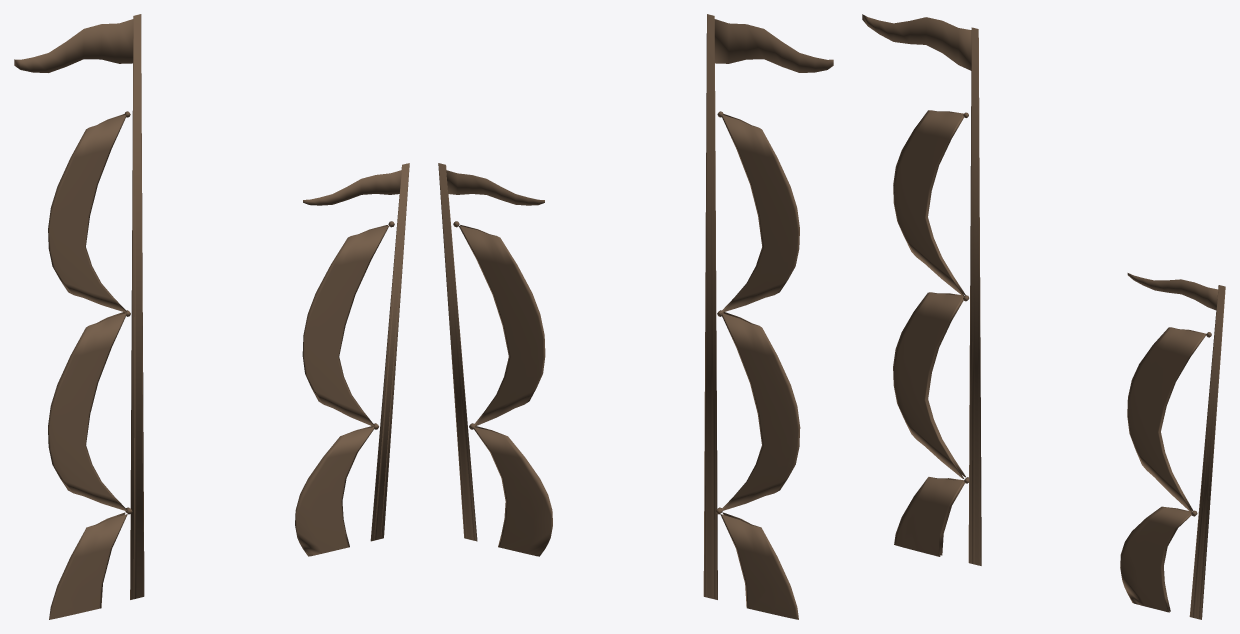
Rendered from ship-masts.glb.
The picture shows the model from 3 angles, left to right: view 1: azimuth 30°, elevation 25°; view 2: azimuth 150°, elevation 25°; view 3: azimuth 330°, elevation 25°; orthographic projection. The views are drawn at different scales.
Parts seen in each view (by area): view 1: ship-masts; view 2: ship-masts; view 3: ship-masts.
Boxes of the visible parts, left/top/right/bottom form: ship-masts: left=14, top=14, right=409, bottom=619; ship-masts: left=438, top=14, right=833, bottom=619; ship-masts: left=862, top=14, right=1225, bottom=619.
Size of the model in its own units: 5.67 by 8 by 0.0663.
